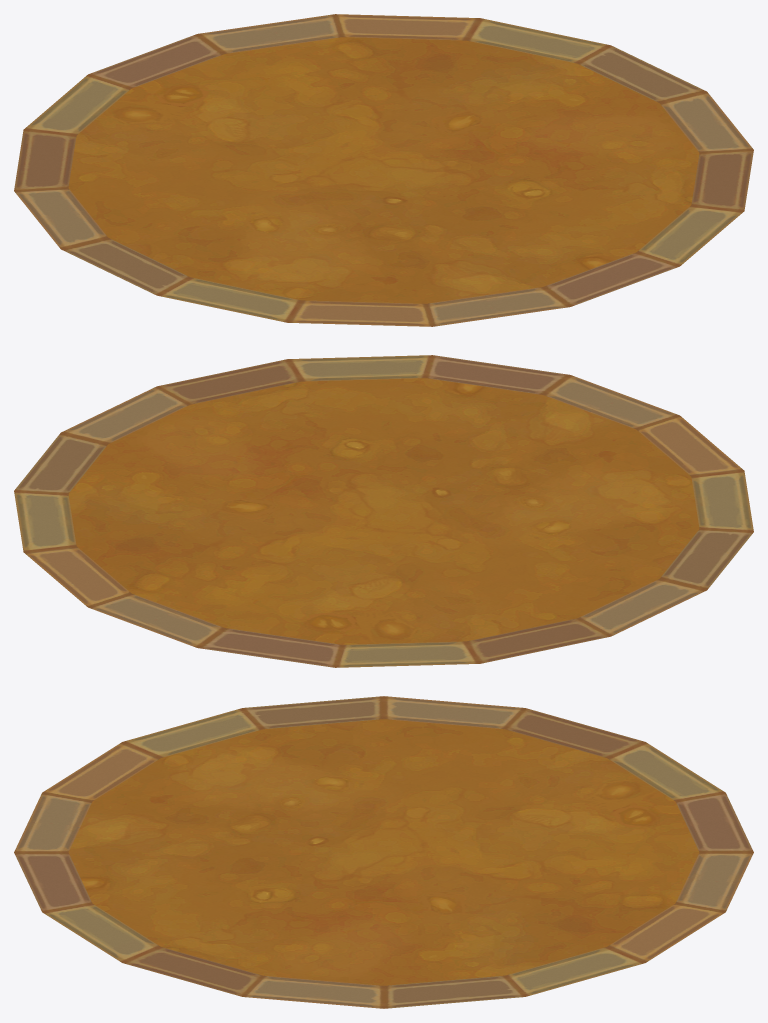
File: Ground01_a02.FBX
3 views of the same model, one above another, from view 1: azimuth 30°, elevation 25°; view 2: azimuth 150°, elevation 25°; view 3: azimuth 270°, elevation 25° (orthographic).
Parts seen in each view (by area): view 1: Ground01_a02; view 2: Ground01_a02; view 3: Ground01_a02.
Boxes of the visible parts, box(x1,y1,x2,y2) form: Ground01_a02: box(14, 14, 753, 326); Ground01_a02: box(14, 355, 753, 667); Ground01_a02: box(14, 696, 753, 1008).
Size of the model in its own units: 430 by 0.000109 by 430.
Materials: 2 (2 with a texture image).
